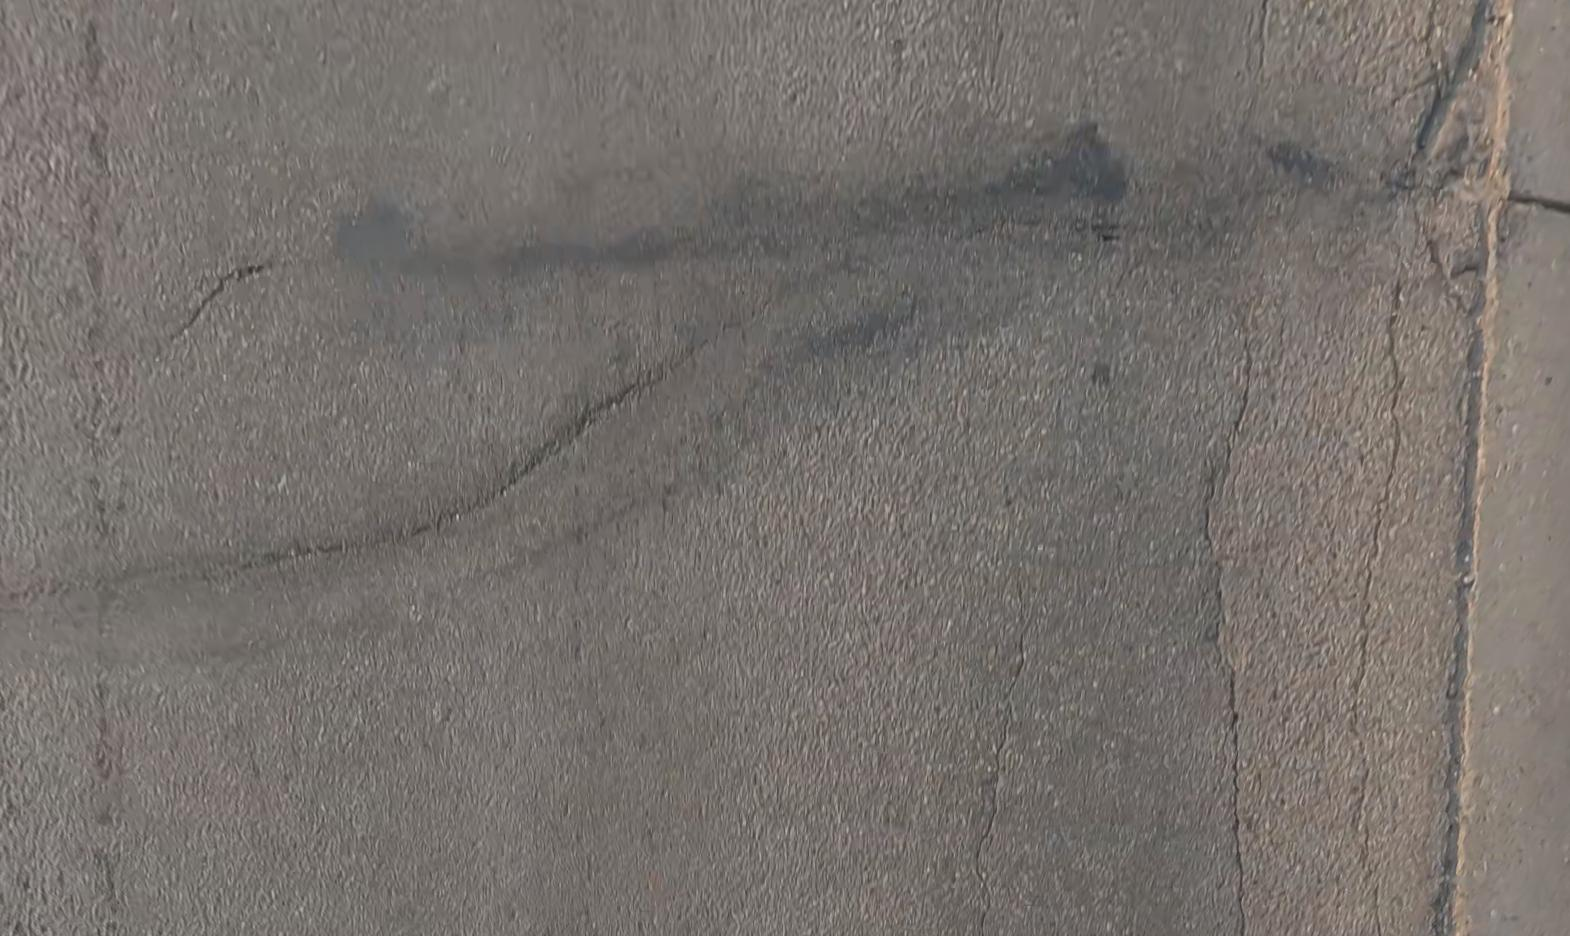pothole_patch_good: (333, 120, 1131, 305)
